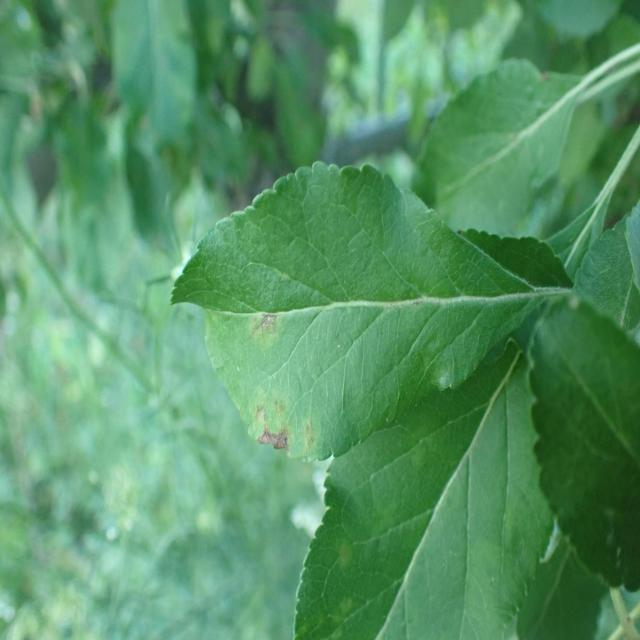scab: (178, 198, 426, 474)
